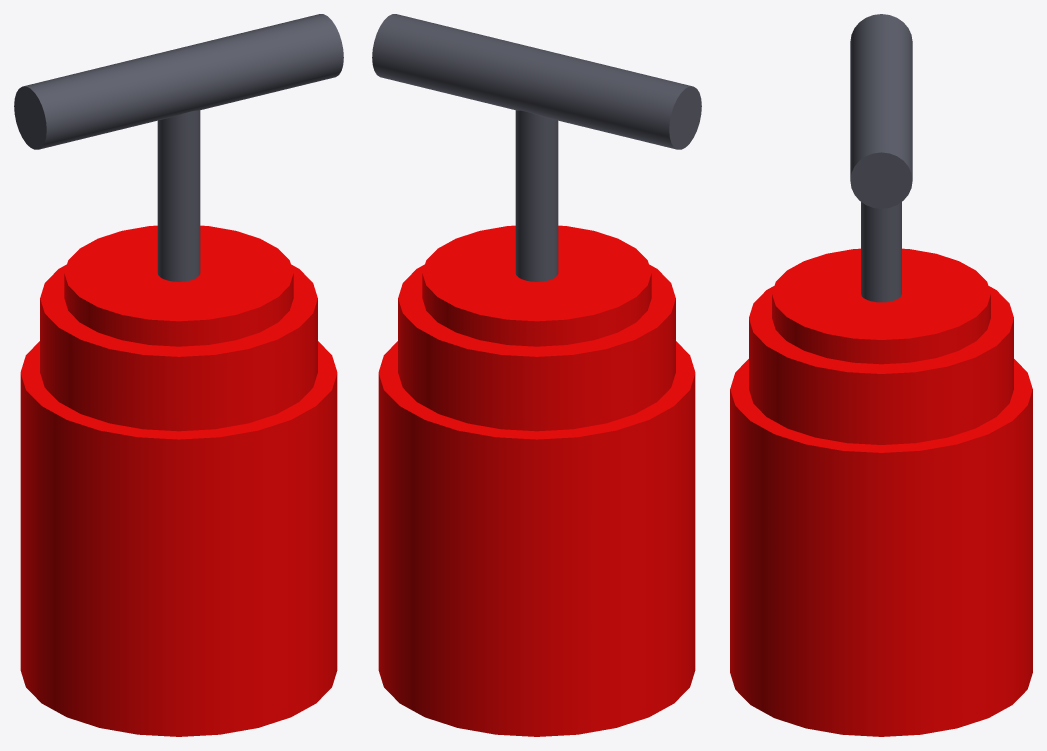
File: dynamite.fbx
The picture shows the model from 3 angles, left to right: view 1: azimuth 30°, elevation 25°; view 2: azimuth 150°, elevation 25°; view 3: azimuth 270°, elevation 25°; orthographic projection. The views are drawn at different scales.
Parts seen in each view (by area): view 1: Dynamite; view 2: Dynamite; view 3: Dynamite.
Boxes of the visible parts, left/top/right/bottom form: Dynamite: left=14, top=14, right=343, bottom=736; Dynamite: left=372, top=14, right=701, bottom=736; Dynamite: left=730, top=14, right=1032, bottom=736.
Bounding box in the file's own units: 184 × 365 × 170.
